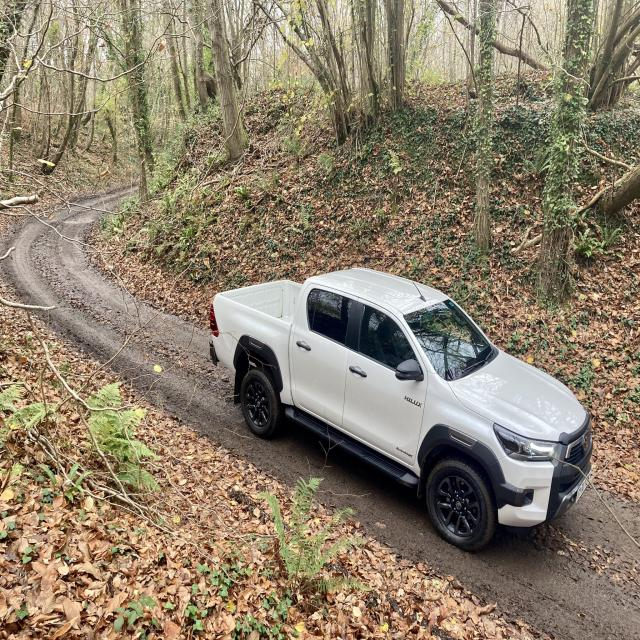Pickup Trucks: (210, 264, 592, 553)
